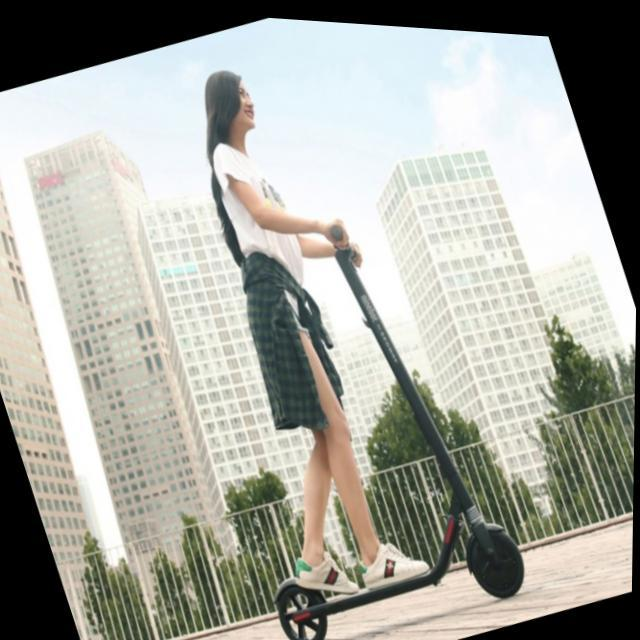Nonhelmet: (198, 60, 252, 145)
